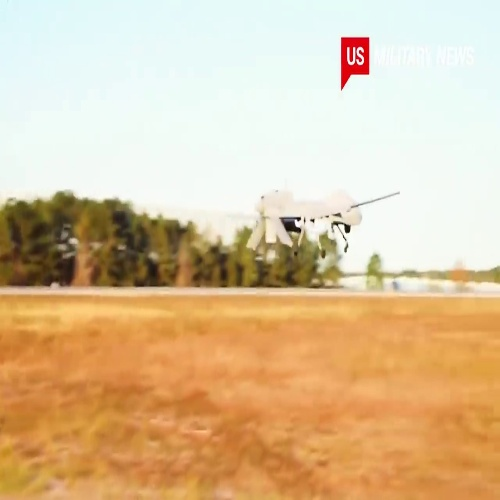uav: (243, 190, 402, 261)
